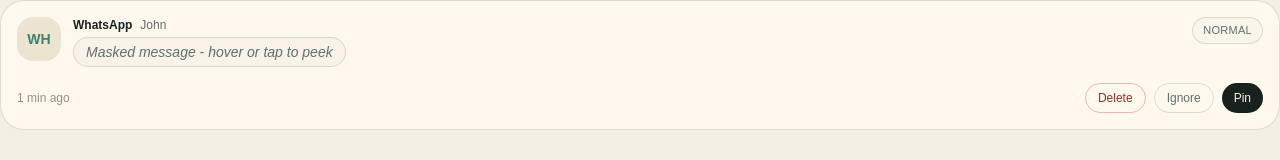
NotificationCard › masks hidden content until the user peeks
Check: the text "hidden" is not shown
Hover over the button with aria-label "Masked message. Hover, focus, or click to peek.": [209, 52] box x1=73 y1=37 x2=346 y2=67
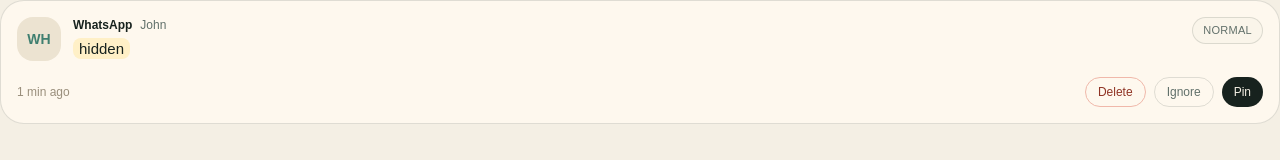
Check: the text "hidden" is shown, box x1=73 y1=38 x2=130 y2=59
